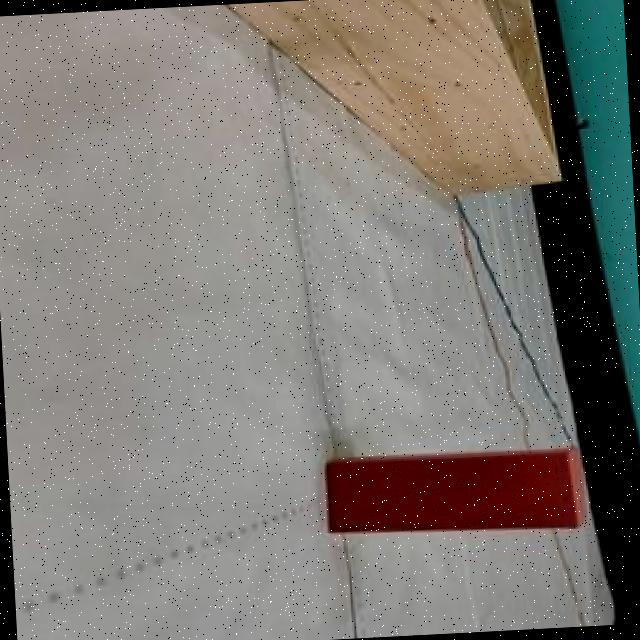redbox: (324, 444, 590, 544)
